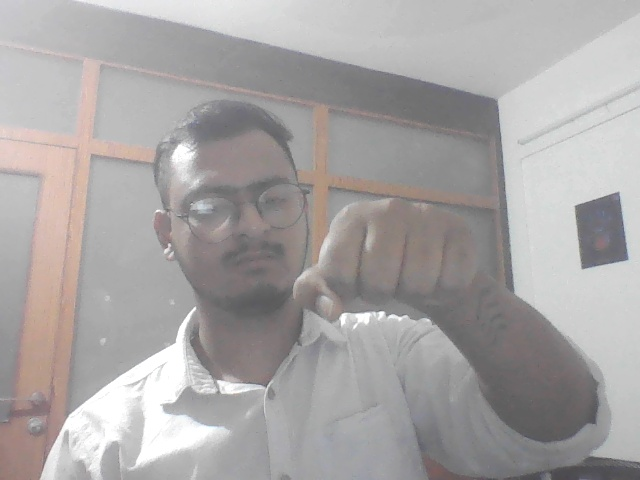YES: (289, 196, 484, 334)
